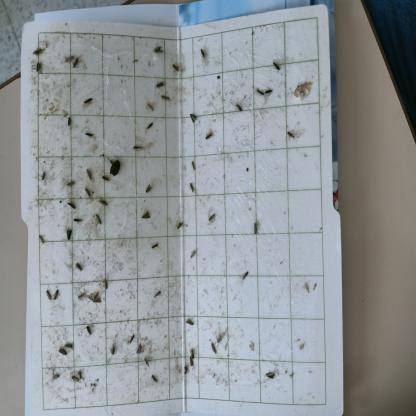prays_oleae: (290, 79, 314, 103), (258, 363, 278, 385), (86, 286, 102, 309), (249, 212, 260, 244), (128, 139, 146, 158), (145, 96, 160, 118), (56, 339, 69, 363), (284, 124, 297, 148), (206, 207, 219, 230), (62, 192, 77, 211), (106, 336, 117, 361), (170, 217, 186, 234), (153, 278, 163, 305), (83, 126, 99, 142), (30, 39, 46, 55), (152, 76, 168, 92), (75, 251, 86, 274), (239, 267, 253, 285), (83, 88, 94, 110), (66, 171, 76, 195), (172, 57, 186, 74), (53, 278, 62, 304), (64, 226, 74, 248), (186, 247, 198, 265), (203, 131, 215, 149), (139, 204, 153, 219), (272, 55, 282, 76), (98, 275, 109, 294), (185, 311, 198, 327), (144, 117, 160, 130), (160, 92, 173, 108), (152, 370, 164, 387), (39, 166, 49, 186), (208, 336, 218, 356), (198, 46, 208, 66), (188, 157, 199, 175), (151, 42, 163, 58), (66, 337, 76, 356), (150, 235, 161, 252), (124, 330, 138, 343), (72, 290, 86, 303), (254, 82, 264, 100), (82, 165, 93, 181), (42, 287, 53, 303), (71, 54, 82, 70), (182, 359, 190, 381), (233, 102, 244, 118), (93, 212, 103, 229), (38, 232, 48, 249), (264, 84, 274, 101), (95, 196, 109, 208), (70, 372, 82, 386), (32, 60, 44, 74), (188, 109, 197, 127), (84, 327, 94, 343), (134, 342, 144, 358), (72, 213, 85, 225), (142, 355, 154, 368), (186, 181, 198, 194), (188, 344, 196, 361), (187, 356, 195, 372), (84, 185, 91, 200), (67, 111, 72, 131), (144, 178, 151, 192)
